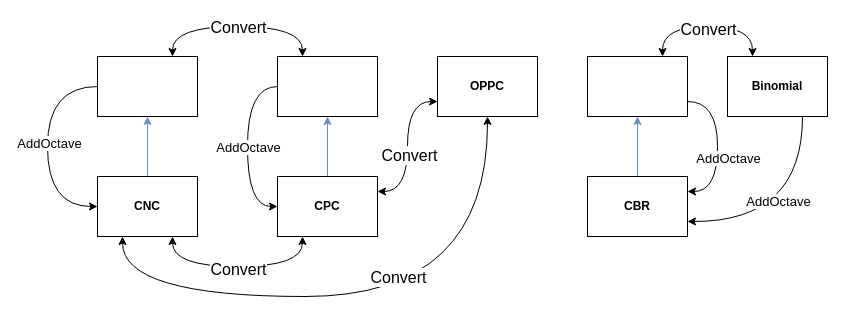
Image size: 845x314. Some labels were removed from this diagram. The shapes that lost their labels are listed below. From the top down, each one's centre as x and y in pixels, then its label:
At point (147, 86): "NC".
At point (327, 86): "PC".
At point (637, 86): "BR".
